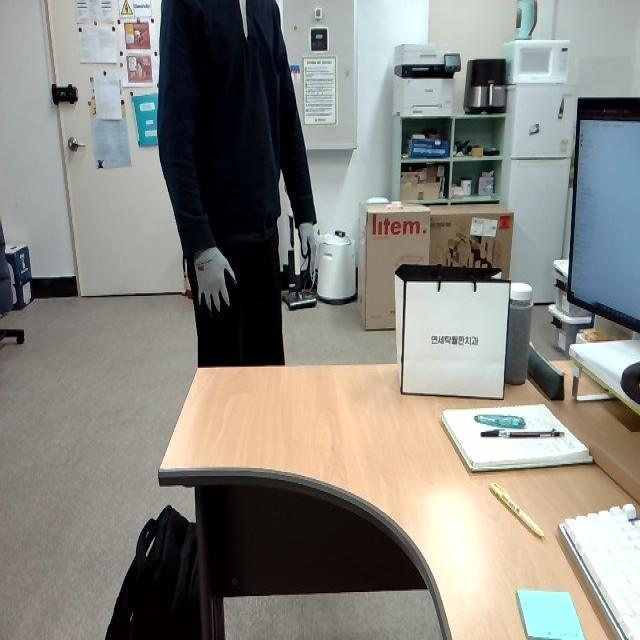gloved_hand: (184, 241, 239, 318), (287, 213, 327, 292)
